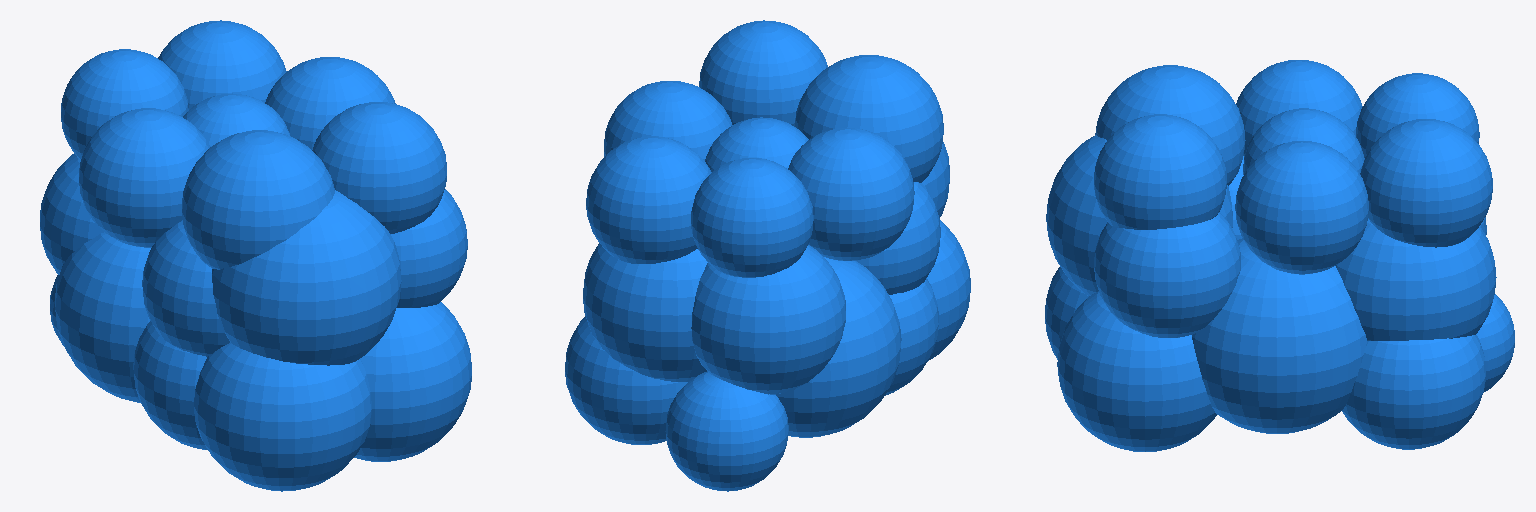
robot.urdf — toaster:
<?xml version="1.0"?>
<robot name="toaster">
  <!-- morphit:centroid -0.002878 -0.006095 0.100813 -->
  <material name="default_color">
    <color rgba="0.200000 0.600000 1.000000 1.000000"/>
  </material>
  <link name="base">
    <inertial>
      <mass value="0.001000"/>
      <inertia ixx="0.000010" ixy="0.0" ixz="0.0" iyy="0.000010" iyz="0.0" izz="0.000010"/>
    </inertial>
  </link>
  <link name="sphere_0">
    <visual>
      <origin xyz="0 0 0" rpy="0 0 0"/>
      <geometry><sphere radius="0.050601"/></geometry>
      <material name="default_color"/>
    </visual>
    <collision>
      <origin xyz="0 0 0" rpy="0 0 0"/>
      <geometry><sphere radius="0.050601"/></geometry>
    </collision>
    <inertial>
      <mass value="0.068067"/>
      <inertia ixx="0.000070" ixy="0.0" ixz="0.0" iyy="0.000070" iyz="0.0" izz="0.000070"/>
    </inertial>
  </link>
  <joint name="sphere_0_fixed" type="fixed">
    <parent link="base"/>
    <child link="sphere_0"/>
    <origin xyz="0.041142 -0.080501 -0.053569" rpy="0 0 0"/>
  </joint>
  <link name="sphere_1">
    <visual>
      <origin xyz="0 0 0" rpy="0 0 0"/>
      <geometry><sphere radius="0.058132"/></geometry>
      <material name="default_color"/>
    </visual>
    <collision>
      <origin xyz="0 0 0" rpy="0 0 0"/>
      <geometry><sphere radius="0.058132"/></geometry>
    </collision>
    <inertial>
      <mass value="0.103202"/>
      <inertia ixx="0.000139" ixy="0.0" ixz="0.0" iyy="0.000139" iyz="0.0" izz="0.000139"/>
    </inertial>
  </link>
  <joint name="sphere_1_fixed" type="fixed">
    <parent link="base"/>
    <child link="sphere_1"/>
    <origin xyz="0.041643 -0.004872 -0.033536" rpy="0 0 0"/>
  </joint>
  <link name="sphere_2">
    <visual>
      <origin xyz="0 0 0" rpy="0 0 0"/>
      <geometry><sphere radius="0.055257"/></geometry>
      <material name="default_color"/>
    </visual>
    <collision>
      <origin xyz="0 0 0" rpy="0 0 0"/>
      <geometry><sphere radius="0.055257"/></geometry>
    </collision>
    <inertial>
      <mass value="0.088635"/>
      <inertia ixx="0.000108" ixy="0.0" ixz="0.0" iyy="0.000108" iyz="0.0" izz="0.000108"/>
    </inertial>
  </link>
  <joint name="sphere_2_fixed" type="fixed">
    <parent link="base"/>
    <child link="sphere_2"/>
    <origin xyz="-0.040777 0.028399 -0.037954" rpy="0 0 0"/>
  </joint>
  <link name="sphere_3">
    <visual>
      <origin xyz="0 0 0" rpy="0 0 0"/>
      <geometry><sphere radius="0.050170"/></geometry>
      <material name="default_color"/>
    </visual>
    <collision>
      <origin xyz="0 0 0" rpy="0 0 0"/>
      <geometry><sphere radius="0.050170"/></geometry>
    </collision>
    <inertial>
      <mass value="0.066341"/>
      <inertia ixx="0.000067" ixy="0.0" ixz="0.0" iyy="0.000067" iyz="0.0" izz="0.000067"/>
    </inertial>
  </link>
  <joint name="sphere_3_fixed" type="fixed">
    <parent link="base"/>
    <child link="sphere_3"/>
    <origin xyz="-0.025623 -0.088261 -0.053265" rpy="0 0 0"/>
  </joint>
  <link name="sphere_4">
    <visual>
      <origin xyz="0 0 0" rpy="0 0 0"/>
      <geometry><sphere radius="0.038489"/></geometry>
      <material name="default_color"/>
    </visual>
    <collision>
      <origin xyz="0 0 0" rpy="0 0 0"/>
      <geometry><sphere radius="0.038489"/></geometry>
    </collision>
    <inertial>
      <mass value="0.029954"/>
      <inertia ixx="0.000018" ixy="0.0" ixz="0.0" iyy="0.000018" iyz="0.0" izz="0.000018"/>
    </inertial>
  </link>
  <joint name="sphere_4_fixed" type="fixed">
    <parent link="base"/>
    <child link="sphere_4"/>
    <origin xyz="0.060578 0.009460 0.054758" rpy="0 0 0"/>
  </joint>
  <link name="sphere_5">
    <visual>
      <origin xyz="0 0 0" rpy="0 0 0"/>
      <geometry><sphere radius="0.035637"/></geometry>
      <material name="default_color"/>
    </visual>
    <collision>
      <origin xyz="0 0 0" rpy="0 0 0"/>
      <geometry><sphere radius="0.035637"/></geometry>
    </collision>
    <inertial>
      <mass value="0.023777"/>
      <inertia ixx="0.000012" ixy="0.0" ixz="0.0" iyy="0.000012" iyz="0.0" izz="0.000012"/>
    </inertial>
  </link>
  <joint name="sphere_5_fixed" type="fixed">
    <parent link="base"/>
    <child link="sphere_5"/>
    <origin xyz="-0.032255 0.075780 0.057317" rpy="0 0 0"/>
  </joint>
  <link name="sphere_6">
    <visual>
      <origin xyz="0 0 0" rpy="0 0 0"/>
      <geometry><sphere radius="0.035622"/></geometry>
      <material name="default_color"/>
    </visual>
    <collision>
      <origin xyz="0 0 0" rpy="0 0 0"/>
      <geometry><sphere radius="0.035622"/></geometry>
    </collision>
    <inertial>
      <mass value="0.023747"/>
      <inertia ixx="0.000012" ixy="0.0" ixz="0.0" iyy="0.000012" iyz="0.0" izz="0.000012"/>
    </inertial>
  </link>
  <joint name="sphere_6_fixed" type="fixed">
    <parent link="base"/>
    <child link="sphere_6"/>
    <origin xyz="-0.027470 0.096261 -0.069441" rpy="0 0 0"/>
  </joint>
  <link name="sphere_7">
    <visual>
      <origin xyz="0 0 0" rpy="0 0 0"/>
      <geometry><sphere radius="0.051795"/></geometry>
      <material name="default_color"/>
    </visual>
    <collision>
      <origin xyz="0 0 0" rpy="0 0 0"/>
      <geometry><sphere radius="0.051795"/></geometry>
    </collision>
    <inertial>
      <mass value="0.073001"/>
      <inertia ixx="0.000078" ixy="0.0" ixz="0.0" iyy="0.000078" iyz="0.0" izz="0.000078"/>
    </inertial>
  </link>
  <joint name="sphere_7_fixed" type="fixed">
    <parent link="base"/>
    <child link="sphere_7"/>
    <origin xyz="0.024562 0.069233 -0.006283" rpy="0 0 0"/>
  </joint>
  <link name="sphere_8">
    <visual>
      <origin xyz="0 0 0" rpy="0 0 0"/>
      <geometry><sphere radius="0.038636"/></geometry>
      <material name="default_color"/>
    </visual>
    <collision>
      <origin xyz="0 0 0" rpy="0 0 0"/>
      <geometry><sphere radius="0.038636"/></geometry>
    </collision>
    <inertial>
      <mass value="0.030299"/>
      <inertia ixx="0.000018" ixy="0.0" ixz="0.0" iyy="0.000018" iyz="0.0" izz="0.000018"/>
    </inertial>
  </link>
  <joint name="sphere_8_fixed" type="fixed">
    <parent link="base"/>
    <child link="sphere_8"/>
    <origin xyz="-0.056614 0.007614 0.051289" rpy="0 0 0"/>
  </joint>
  <link name="sphere_9">
    <visual>
      <origin xyz="0 0 0" rpy="0 0 0"/>
      <geometry><sphere radius="0.054293"/></geometry>
      <material name="default_color"/>
    </visual>
    <collision>
      <origin xyz="0 0 0" rpy="0 0 0"/>
      <geometry><sphere radius="0.054293"/></geometry>
    </collision>
    <inertial>
      <mass value="0.084080"/>
      <inertia ixx="0.000099" ixy="0.0" ixz="0.0" iyy="0.000099" iyz="0.0" izz="0.000099"/>
    </inertial>
  </link>
  <joint name="sphere_9_fixed" type="fixed">
    <parent link="base"/>
    <child link="sphere_9"/>
    <origin xyz="-0.009925 -0.083235 0.015510" rpy="0 0 0"/>
  </joint>
  <link name="sphere_10">
    <visual>
      <origin xyz="0 0 0" rpy="0 0 0"/>
      <geometry><sphere radius="0.043285"/></geometry>
      <material name="default_color"/>
    </visual>
    <collision>
      <origin xyz="0 0 0" rpy="0 0 0"/>
      <geometry><sphere radius="0.043285"/></geometry>
    </collision>
    <inertial>
      <mass value="0.042605"/>
      <inertia ixx="0.000032" ixy="0.0" ixz="0.0" iyy="0.000032" iyz="0.0" izz="0.000032"/>
    </inertial>
  </link>
  <joint name="sphere_10_fixed" type="fixed">
    <parent link="base"/>
    <child link="sphere_10"/>
    <origin xyz="-0.028144 -0.066312 0.055961" rpy="0 0 0"/>
  </joint>
  <link name="sphere_11">
    <visual>
      <origin xyz="0 0 0" rpy="0 0 0"/>
      <geometry><sphere radius="0.038517"/></geometry>
      <material name="default_color"/>
    </visual>
    <collision>
      <origin xyz="0 0 0" rpy="0 0 0"/>
      <geometry><sphere radius="0.038517"/></geometry>
    </collision>
    <inertial>
      <mass value="0.030020"/>
      <inertia ixx="0.000018" ixy="0.0" ixz="0.0" iyy="0.000018" iyz="0.0" izz="0.000018"/>
    </inertial>
  </link>
  <joint name="sphere_11_fixed" type="fixed">
    <parent link="base"/>
    <child link="sphere_11"/>
    <origin xyz="0.031144 0.080629 0.054893" rpy="0 0 0"/>
  </joint>
  <link name="sphere_12">
    <visual>
      <origin xyz="0 0 0" rpy="0 0 0"/>
      <geometry><sphere radius="0.044617"/></geometry>
      <material name="default_color"/>
    </visual>
    <collision>
      <origin xyz="0 0 0" rpy="0 0 0"/>
      <geometry><sphere radius="0.044617"/></geometry>
    </collision>
    <inertial>
      <mass value="0.046660"/>
      <inertia ixx="0.000037" ixy="0.0" ixz="0.0" iyy="0.000037" iyz="0.0" izz="0.000037"/>
    </inertial>
  </link>
  <joint name="sphere_12_fixed" type="fixed">
    <parent link="base"/>
    <child link="sphere_12"/>
    <origin xyz="0.043995 0.070639 -0.057164" rpy="0 0 0"/>
  </joint>
  <link name="sphere_13">
    <visual>
      <origin xyz="0 0 0" rpy="0 0 0"/>
      <geometry><sphere radius="0.038394"/></geometry>
      <material name="default_color"/>
    </visual>
    <collision>
      <origin xyz="0 0 0" rpy="0 0 0"/>
      <geometry><sphere radius="0.038394"/></geometry>
    </collision>
    <inertial>
      <mass value="0.029734"/>
      <inertia ixx="0.000018" ixy="0.0" ixz="0.0" iyy="0.000018" iyz="0.0" izz="0.000018"/>
    </inertial>
  </link>
  <joint name="sphere_13_fixed" type="fixed">
    <parent link="base"/>
    <child link="sphere_13"/>
    <origin xyz="0.044205 -0.071895 0.064020" rpy="0 0 0"/>
  </joint>
  <link name="sphere_14">
    <visual>
      <origin xyz="0 0 0" rpy="0 0 0"/>
      <geometry><sphere radius="0.035257"/></geometry>
      <material name="default_color"/>
    </visual>
    <collision>
      <origin xyz="0 0 0" rpy="0 0 0"/>
      <geometry><sphere radius="0.035257"/></geometry>
    </collision>
    <inertial>
      <mass value="0.023024"/>
      <inertia ixx="0.000011" ixy="0.0" ixz="0.0" iyy="0.000011" iyz="0.0" izz="0.000011"/>
    </inertial>
  </link>
  <joint name="sphere_14_fixed" type="fixed">
    <parent link="base"/>
    <child link="sphere_14"/>
    <origin xyz="-0.001585 0.010716 0.049816" rpy="0 0 0"/>
  </joint>
  <link name="sphere_15">
    <visual>
      <origin xyz="0 0 0" rpy="0 0 0"/>
      <geometry><sphere radius="0.042535"/></geometry>
      <material name="default_color"/>
    </visual>
    <collision>
      <origin xyz="0 0 0" rpy="0 0 0"/>
      <geometry><sphere radius="0.042535"/></geometry>
    </collision>
    <inertial>
      <mass value="0.040429"/>
      <inertia ixx="0.000029" ixy="0.0" ixz="0.0" iyy="0.000029" iyz="0.0" izz="0.000029"/>
    </inertial>
  </link>
  <joint name="sphere_15_fixed" type="fixed">
    <parent link="base"/>
    <child link="sphere_15"/>
    <origin xyz="0.054993 -0.067653 0.015928" rpy="0 0 0"/>
  </joint>
  <link name="sphere_16">
    <visual>
      <origin xyz="0 0 0" rpy="0 0 0"/>
      <geometry><sphere radius="0.047189"/></geometry>
      <material name="default_color"/>
    </visual>
    <collision>
      <origin xyz="0 0 0" rpy="0 0 0"/>
      <geometry><sphere radius="0.047189"/></geometry>
    </collision>
    <inertial>
      <mass value="0.055204"/>
      <inertia ixx="0.000049" ixy="0.0" ixz="0.0" iyy="0.000049" iyz="0.0" izz="0.000049"/>
    </inertial>
  </link>
  <joint name="sphere_16_fixed" type="fixed">
    <parent link="base"/>
    <child link="sphere_16"/>
    <origin xyz="-0.036639 0.068362 -0.004688" rpy="0 0 0"/>
  </joint>
  <link name="sphere_17">
    <visual>
      <origin xyz="0 0 0" rpy="0 0 0"/>
      <geometry><sphere radius="0.045951"/></geometry>
      <material name="default_color"/>
    </visual>
    <collision>
      <origin xyz="0 0 0" rpy="0 0 0"/>
      <geometry><sphere radius="0.045951"/></geometry>
    </collision>
    <inertial>
      <mass value="0.050971"/>
      <inertia ixx="0.000043" ixy="0.0" ixz="0.0" iyy="0.000043" iyz="0.0" izz="0.000043"/>
    </inertial>
  </link>
  <joint name="sphere_17_fixed" type="fixed">
    <parent link="base"/>
    <child link="sphere_17"/>
    <origin xyz="-0.038957 -0.036716 -0.050882" rpy="0 0 0"/>
  </joint>
  <link name="sphere_18">
    <visual>
      <origin xyz="0 0 0" rpy="0 0 0"/>
      <geometry><sphere radius="0.043643"/></geometry>
      <material name="default_color"/>
    </visual>
    <collision>
      <origin xyz="0 0 0" rpy="0 0 0"/>
      <geometry><sphere radius="0.043643"/></geometry>
    </collision>
    <inertial>
      <mass value="0.043673"/>
      <inertia ixx="0.000033" ixy="0.0" ixz="0.0" iyy="0.000033" iyz="0.0" izz="0.000033"/>
    </inertial>
  </link>
  <joint name="sphere_18_fixed" type="fixed">
    <parent link="base"/>
    <child link="sphere_18"/>
    <origin xyz="-0.006045 0.025085 -0.054464" rpy="0 0 0"/>
  </joint>
  <link name="sphere_19">
    <visual>
      <origin xyz="0 0 0" rpy="0 0 0"/>
      <geometry><sphere radius="0.044590"/></geometry>
      <material name="default_color"/>
    </visual>
    <collision>
      <origin xyz="0 0 0" rpy="0 0 0"/>
      <geometry><sphere radius="0.044590"/></geometry>
    </collision>
    <inertial>
      <mass value="0.046576"/>
      <inertia ixx="0.000037" ixy="0.0" ixz="0.0" iyy="0.000037" iyz="0.0" izz="0.000037"/>
    </inertial>
  </link>
  <joint name="sphere_19_fixed" type="fixed">
    <parent link="base"/>
    <child link="sphere_19"/>
    <origin xyz="-0.038227 -0.042734 0.001755" rpy="0 0 0"/>
  </joint>
</robot>

--- Render facts (derived) ---
Views: 3 orthographic renders of the robot side by side, from view 1: azimuth 30°, elevation 25°; view 2: azimuth 150°, elevation 25°; view 3: azimuth 270°, elevation 25°.
Robot: toaster — 21 links, 20 joints (20 fixed); root link base; default pose: every joint at zero.
Visible links, largest first — view 1: sphere_9, sphere_3, sphere_10, sphere_0, sphere_8, sphere_13, sphere_2, sphere_5, sphere_11, sphere_19, sphere_4, sphere_15 (+3 smaller); view 2: sphere_16, sphere_8, sphere_7, sphere_11, sphere_5, sphere_2, sphere_6, sphere_10, sphere_13, sphere_12, sphere_4, sphere_19 (+4 smaller); view 3: sphere_1, sphere_0, sphere_4, sphere_7, sphere_15, sphere_11, sphere_12, sphere_13, sphere_10, sphere_9, sphere_8, sphere_5 (+3 smaller).
Link boxes in pixels (box(x1,y1,x2,y2)): sphere_9: box(212, 190, 401, 365); sphere_3: box(194, 343, 371, 491); sphere_10: box(182, 130, 334, 269); sphere_0: box(354, 302, 471, 461); sphere_8: box(79, 108, 209, 247); sphere_13: box(312, 102, 446, 233); sphere_2: box(55, 232, 150, 402); sphere_5: box(61, 49, 188, 159); sphere_11: box(158, 20, 286, 109); sphere_19: box(142, 220, 229, 356); sphere_4: box(265, 57, 395, 149); sphere_15: box(391, 189, 467, 307); sphere_16: box(691, 245, 845, 394); sphere_8: box(788, 128, 914, 260); sphere_7: box(583, 243, 707, 381); sphere_11: box(586, 136, 711, 263); sphere_5: box(691, 158, 813, 277); sphere_2: box(776, 257, 901, 437); sphere_6: box(665, 371, 788, 491); sphere_10: box(795, 55, 943, 182); sphere_13: box(699, 20, 827, 126); sphere_12: box(565, 316, 687, 444); sphere_4: box(604, 81, 732, 160); sphere_19: box(857, 182, 940, 294); sphere_1: box(1192, 238, 1366, 433); sphere_0: box(1057, 291, 1216, 451); sphere_4: box(1235, 141, 1368, 274); sphere_7: box(1335, 219, 1496, 340); sphere_15: box(1094, 212, 1240, 337); sphere_11: box(1360, 119, 1492, 247); sphere_12: box(1342, 335, 1486, 449); sphere_13: box(1094, 114, 1226, 229); sphere_10: box(1095, 65, 1245, 185); sphere_9: box(1046, 135, 1232, 295); sphere_8: box(1236, 60, 1362, 156); sphere_5: box(1356, 73, 1479, 157).
Bounding box of the posed robot: 0.1958 × 0.2703 × 0.2075 m (x, y, z).
Geometry: primitives only (box / cylinder / sphere), no mesh files.
